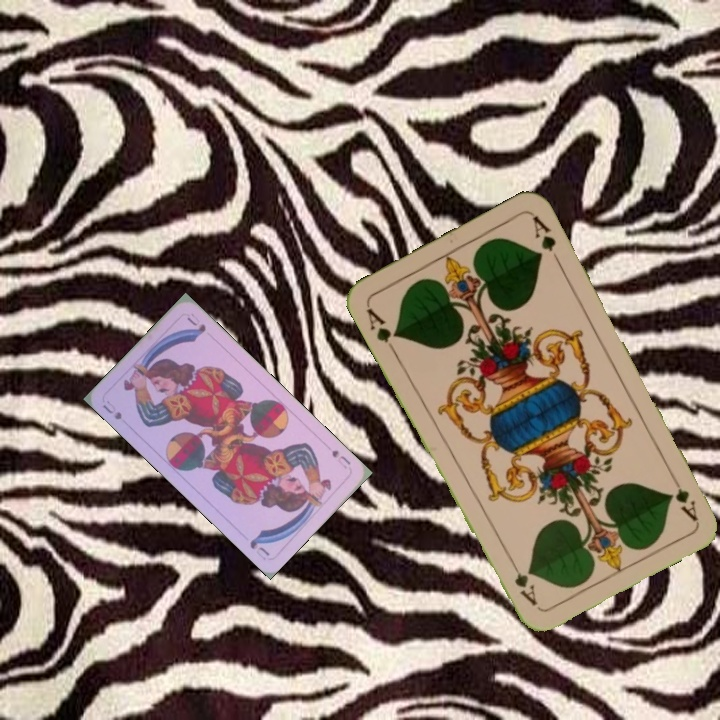GA: (362, 303, 401, 356), (665, 469, 701, 524)
SU: (98, 396, 124, 422), (328, 446, 353, 467)
